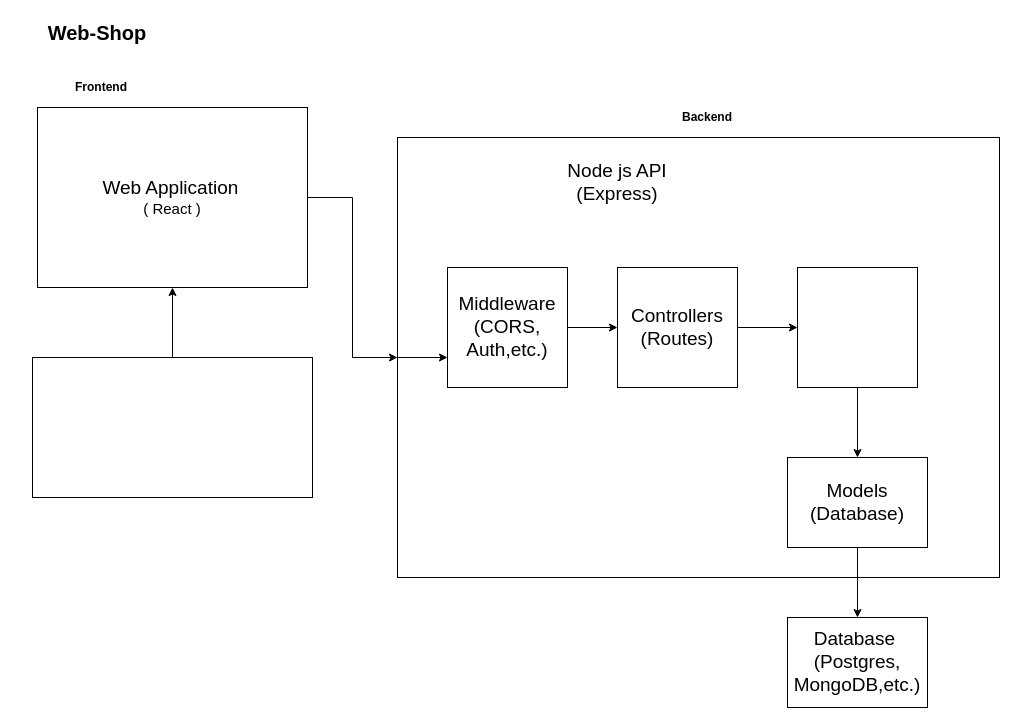
The diagram is 1017 pixels wide and 725 high, and some of its shapes have lost their labels. The shapes that lost their labels are listed below. From the top down, each one's centre as x and y in pixels, then its label:
(x=857, y=327): Services (Business Logic)
(x=172, y=427): User
